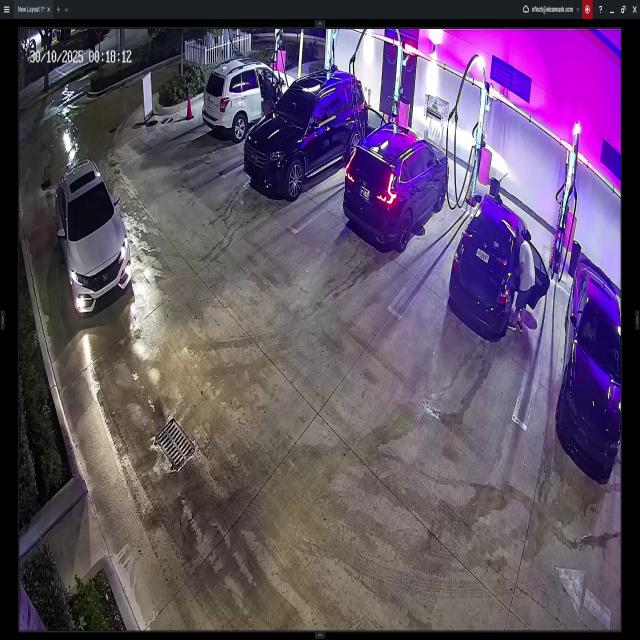Car: (244, 63, 364, 196), (553, 255, 623, 475), (449, 196, 548, 339), (346, 120, 448, 247), (54, 157, 132, 311), (209, 48, 299, 140)
